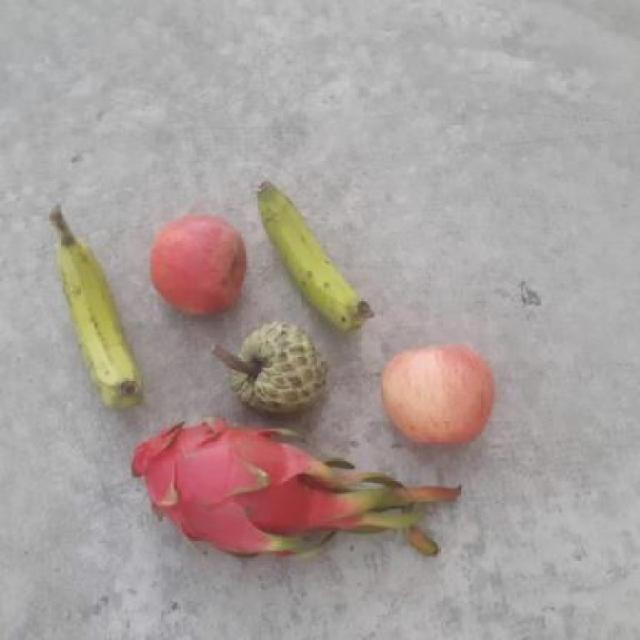apple: (379, 338, 499, 454), (144, 210, 255, 319)
banana: (253, 173, 376, 330), (54, 229, 148, 406)
dragon fruit: (133, 417, 322, 560)
sugar apple: (226, 314, 326, 421)
